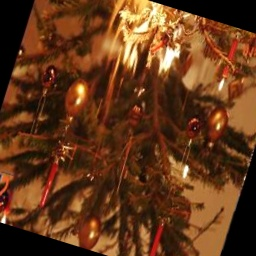fire: (89, 15, 196, 94)
